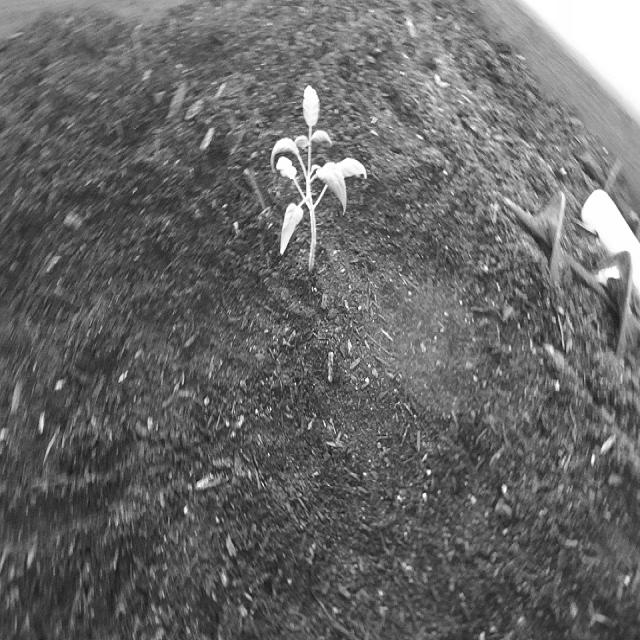Healthy: (265, 64, 374, 286)
